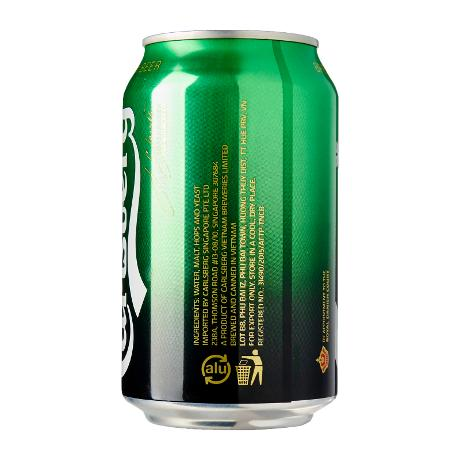beer can: (105, 28, 346, 433)
